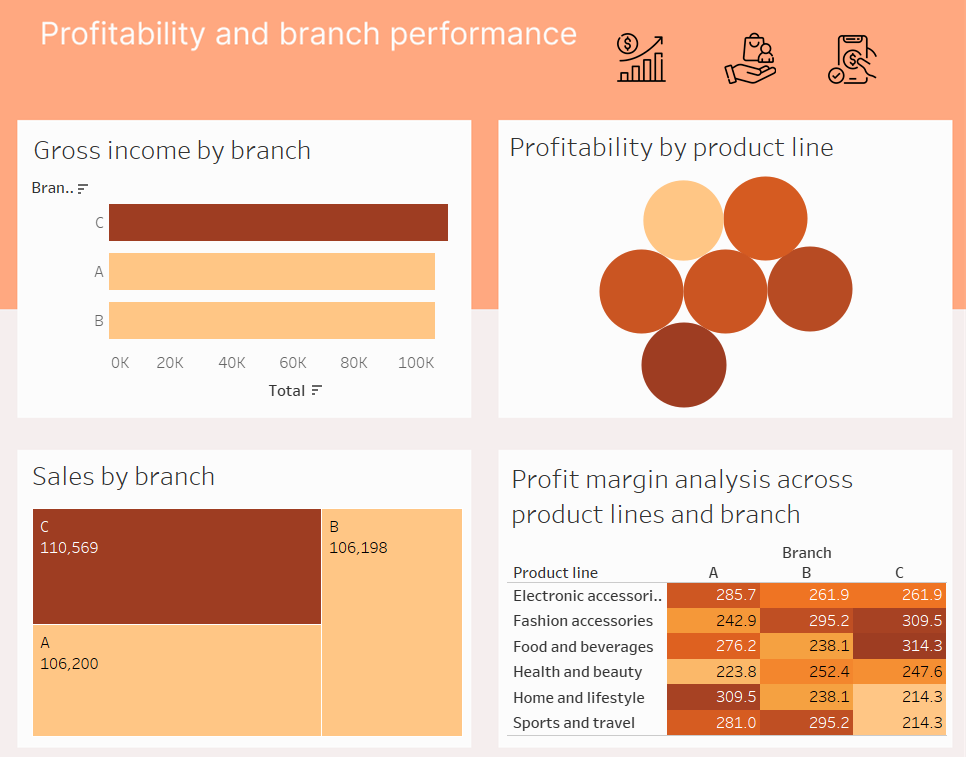

The dashboard page shown, as its layout file describes it:
{"tool":"tableau","page":{"name":"Profitability and branch performance","canvas":[1000,800],"ordinal":2},"visuals":[{"type":"image","param":"C:/Users/MEGHANA L/Downloads/profit and branch (1).png","box":[8,8,984,784]},{"type":"dashboard-object","box":[609,51,103,52]},{"type":"dashboard-object","box":[721,52,96,52]},{"type":"dashboard-object","box":[821,53,100,52]},{"type":"worksheet","title":"Profitability by product line","mark":"Circle","box":[524,145,442,283]},{"type":"worksheet","title":"Gross income by branch","mark":"Automatic","rows":["Branch"],"cols":["Total"],"box":[48,148,436,280]},{"type":"worksheet","title":"Sales by branch","mark":"Automatic","box":[47,474,438,287]},{"type":"worksheet","title":"Profit margin analysis across product lines and branch","mark":"Square","rows":["Product line"],"cols":["Branch"],"box":[526,477,440,279]}]}

Visuals, with their boxes in screenshot pixels (x1, y1, x2, y2), scaled from the page's 1000x800 canvas onto the 967x757 screenshot:
image: 8, 8, 959, 749
dashboard-object: 589, 48, 689, 97
dashboard-object: 697, 49, 790, 98
dashboard-object: 794, 50, 891, 99
"Profitability by product line" worksheet (Circle marks): 507, 137, 934, 405
"Gross income by branch" worksheet: 46, 140, 468, 405
"Sales by branch" worksheet: 45, 449, 469, 720
"Profit margin analysis across product lines and branch" worksheet (Square marks): 509, 451, 934, 715
